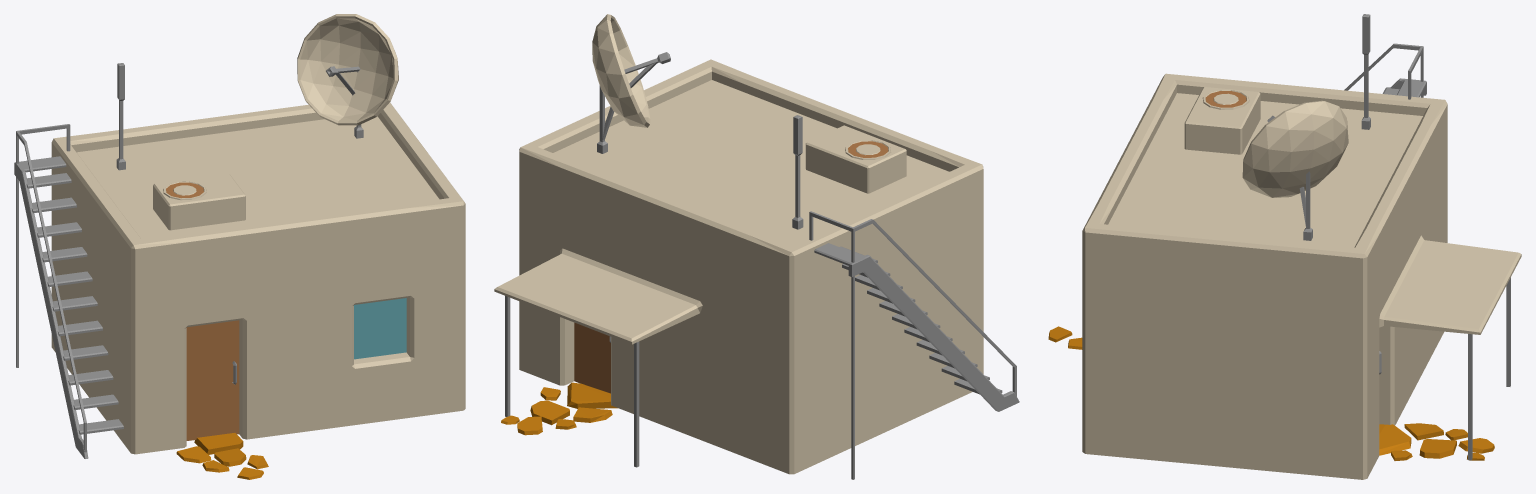
Rendered from bulding.fbx.
3 renders of one model, left to right at view 1: azimuth 30°, elevation 25°; view 2: azimuth 150°, elevation 25°; view 3: azimuth 270°, elevation 25°, orthographic. The views are drawn at different scales.
Visible parts, largest first — view 1: Building01; view 2: Building01; view 3: Building01.
Boxes of the visible parts, x1,y1,x2,y2 form: Building01: [14, 14, 465, 479]; Building01: [494, 14, 1019, 479]; Building01: [1048, 14, 1521, 479].
Bounding box in the file's own units: 514 × 417 × 505.
